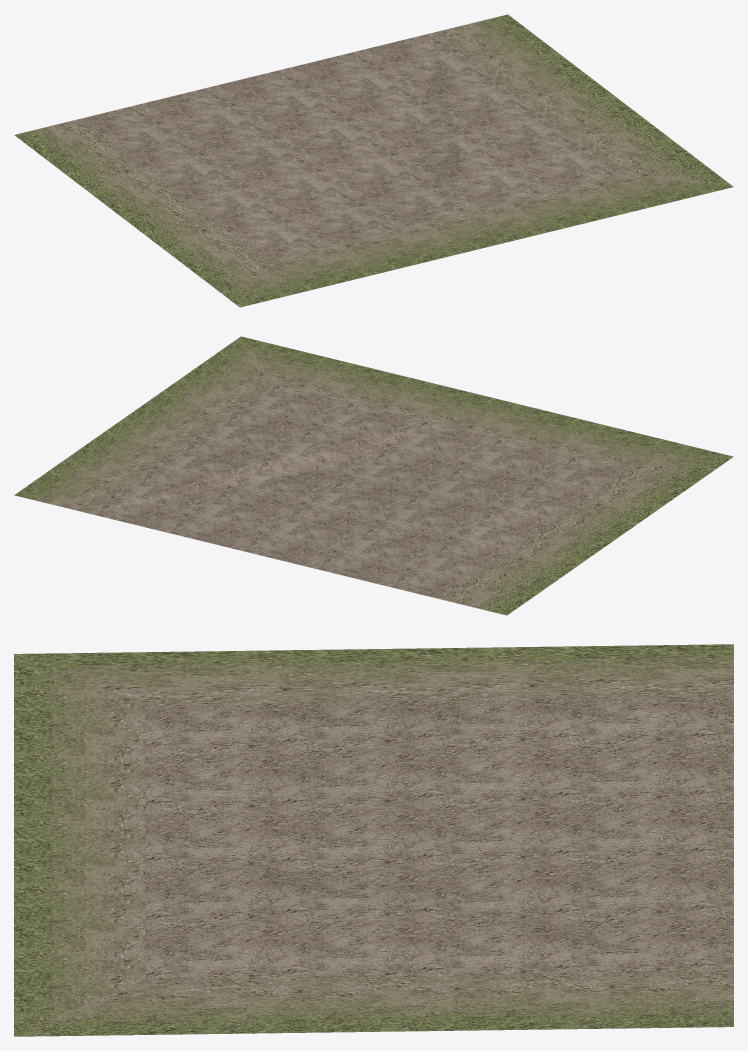
The model's file is comp_puchase.obj.
3 views of the same model, one above another, from view 1: azimuth 30°, elevation 25°; view 2: azimuth 150°, elevation 25°; view 3: azimuth 270°, elevation 25° (orthographic). The views are drawn at different scales.
Visible parts, largest first — view 1: comp_puchase; view 2: comp_puchase; view 3: comp_puchase.
Boxes of the visible parts, bbox=[...] form: comp_puchase: bbox=[14, 14, 733, 307]; comp_puchase: bbox=[14, 336, 733, 615]; comp_puchase: bbox=[14, 644, 733, 1036].
Bounding box in the file's own units: 40.06 × 0.5108 × 31.79.
